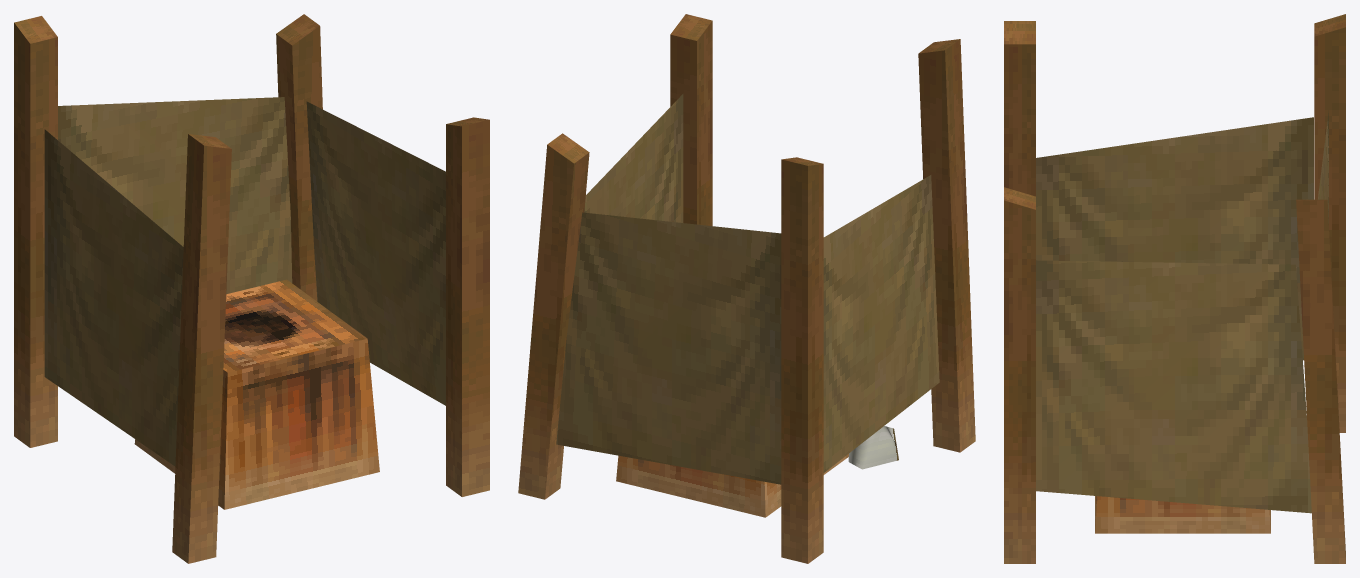
The model's file is CampKhazi.glb.
3 views of the same model, side by side, from view 1: azimuth 30°, elevation 25°; view 2: azimuth 150°, elevation 25°; view 3: azimuth 270°, elevation 25° (orthographic). The views are drawn at different scales.
Visible parts, largest first — view 1: CAMPKHAZI; view 2: CAMPKHAZI; view 3: CAMPKHAZI.
Boxes of the visible parts, box(x1,y1,x2,y2) form: CAMPKHAZI: box(14, 14, 489, 563); CAMPKHAZI: box(518, 14, 975, 563); CAMPKHAZI: box(1004, 14, 1345, 563).
Bounding box in the file's own units: 1.55 × 2.04 × 1.55.
Materials: 1 (1 with a texture image).
